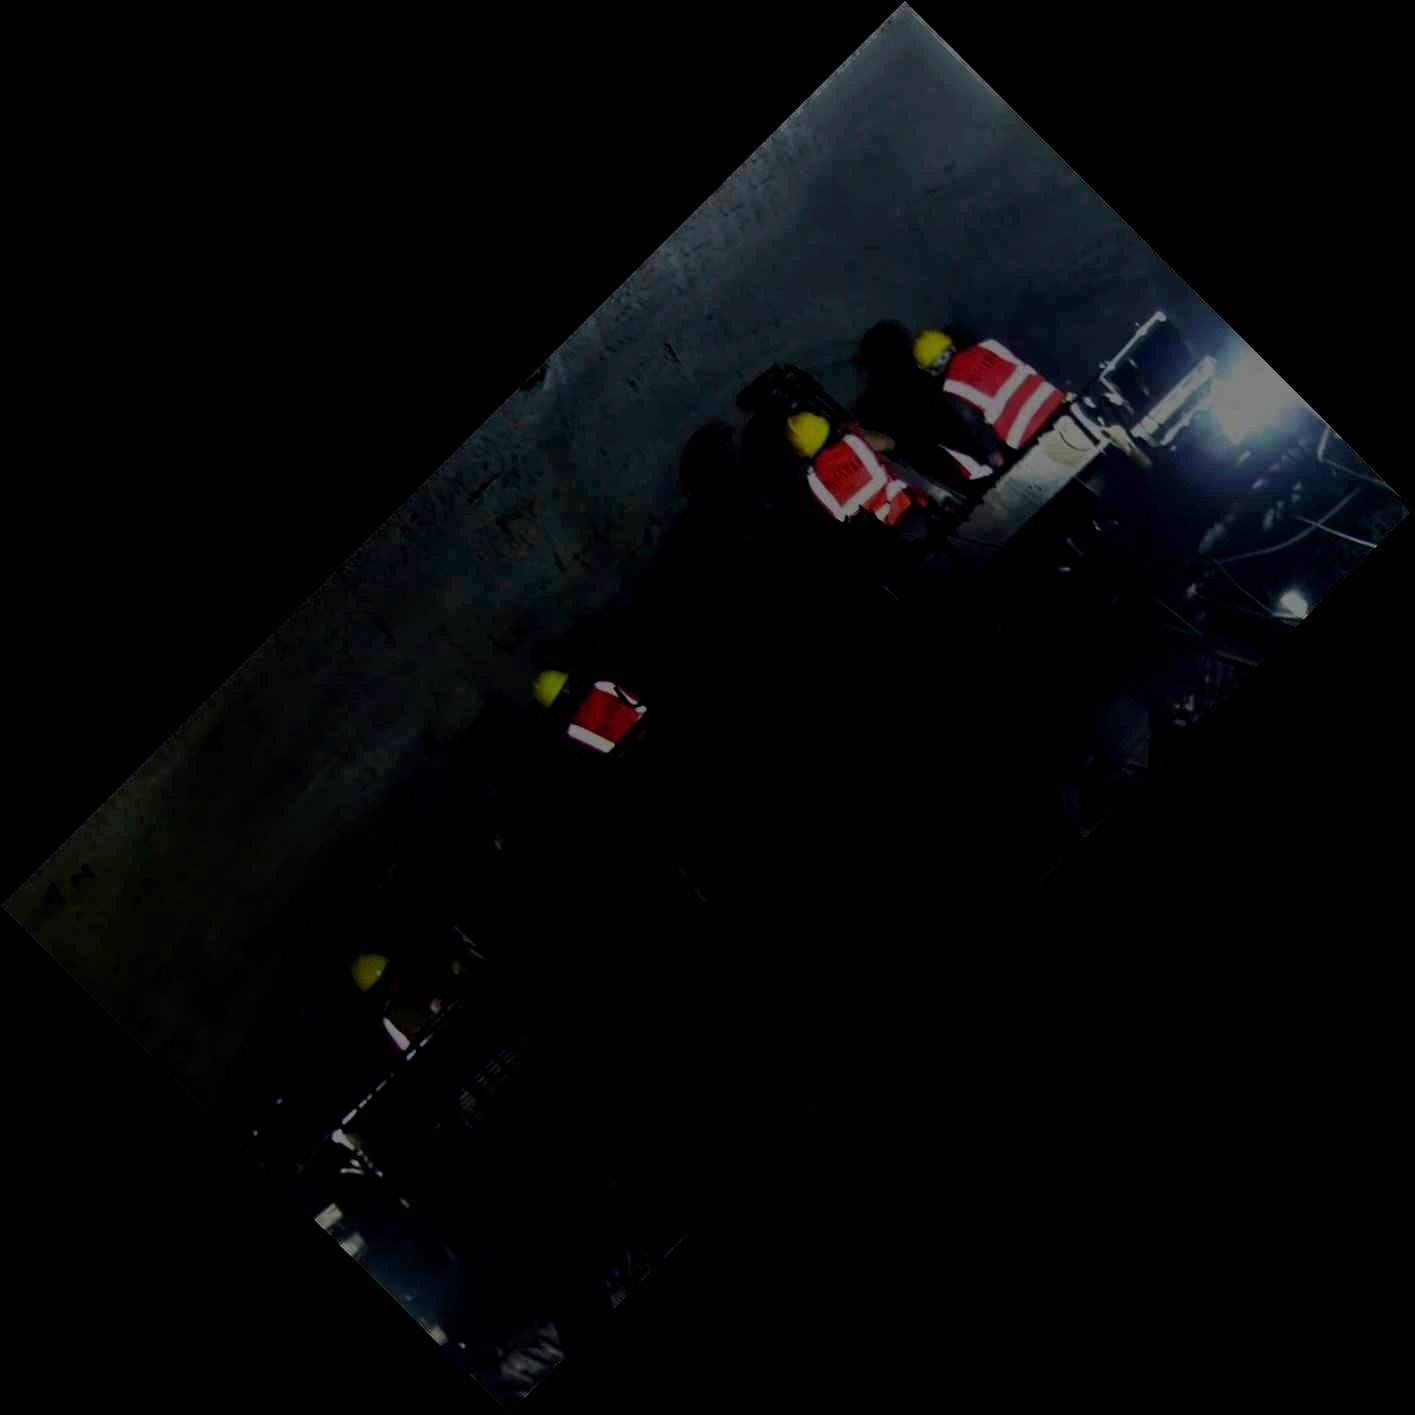helmet: (787, 409, 831, 457), (912, 329, 956, 377), (533, 670, 571, 710)
